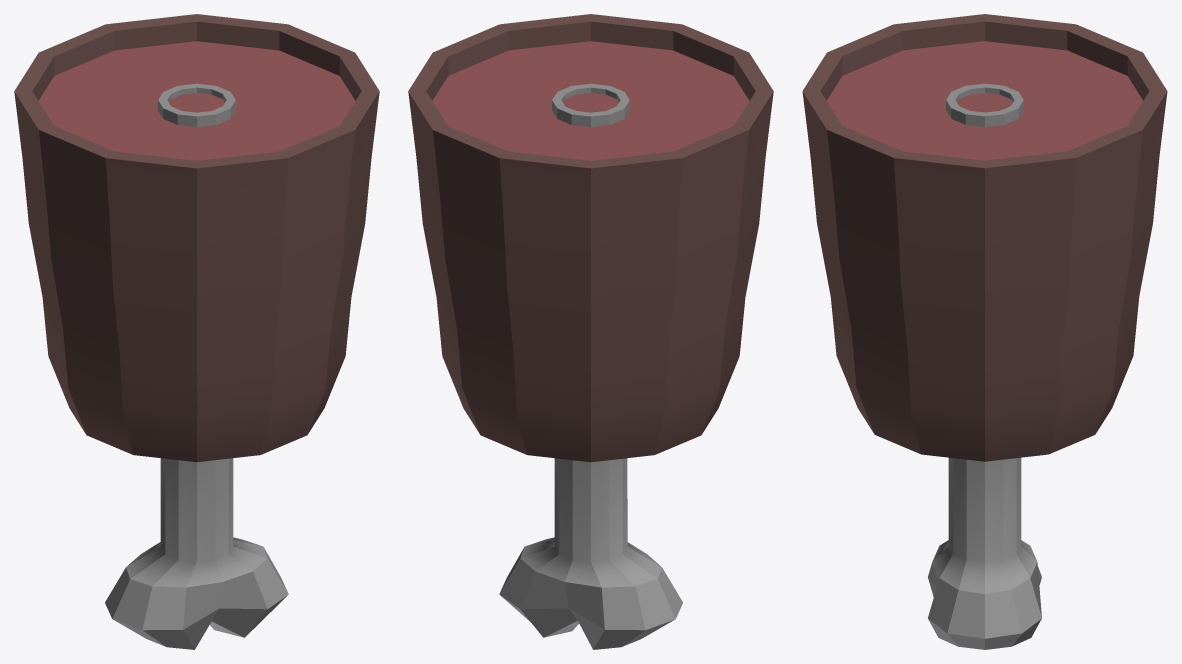
Rendered from meat(pork).fbx.
3 views of the same model, side by side, from view 1: azimuth 30°, elevation 25°; view 2: azimuth 150°, elevation 25°; view 3: azimuth 270°, elevation 25° (orthographic).
Visible parts, largest first — view 1: pCylinder1; view 2: pCylinder1; view 3: pCylinder1.
Boxes of the visible parts, box(x1,y1,x2,y2) form: pCylinder1: box(14, 14, 379, 649); pCylinder1: box(408, 14, 773, 649); pCylinder1: box(802, 14, 1167, 649).
Size of the model in its own units: 2 by 3.28 by 2.
